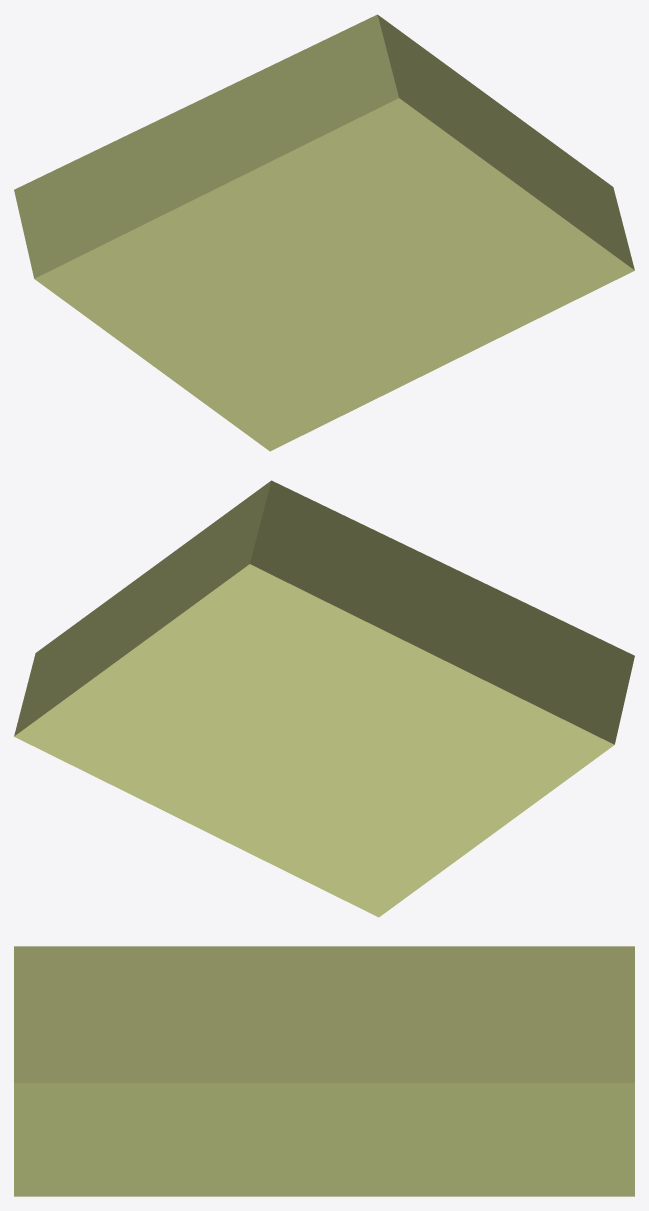
3 renders of one model, top to bottom at view 1: azimuth 30°, elevation 25°; view 2: azimuth 150°, elevation 25°; view 3: azimuth 270°, elevation 25°, orthographic. The views are drawn at different scales.
Visible parts, largest first — view 1: 0_1_3_2_2_2_1_3_3_0; view 2: 0_1_3_2_2_2_1_3_3_0; view 3: 0_1_3_2_2_2_1_3_3_0.
Part boxes in pixels (x1,y1,x2,y2): 0_1_3_2_2_2_1_3_3_0: [14, 14, 634, 451]; 0_1_3_2_2_2_1_3_3_0: [14, 480, 634, 917]; 0_1_3_2_2_2_1_3_3_0: [14, 946, 634, 1196].
Size of the model in its own units: 8.48 by 3.8 by 9.
